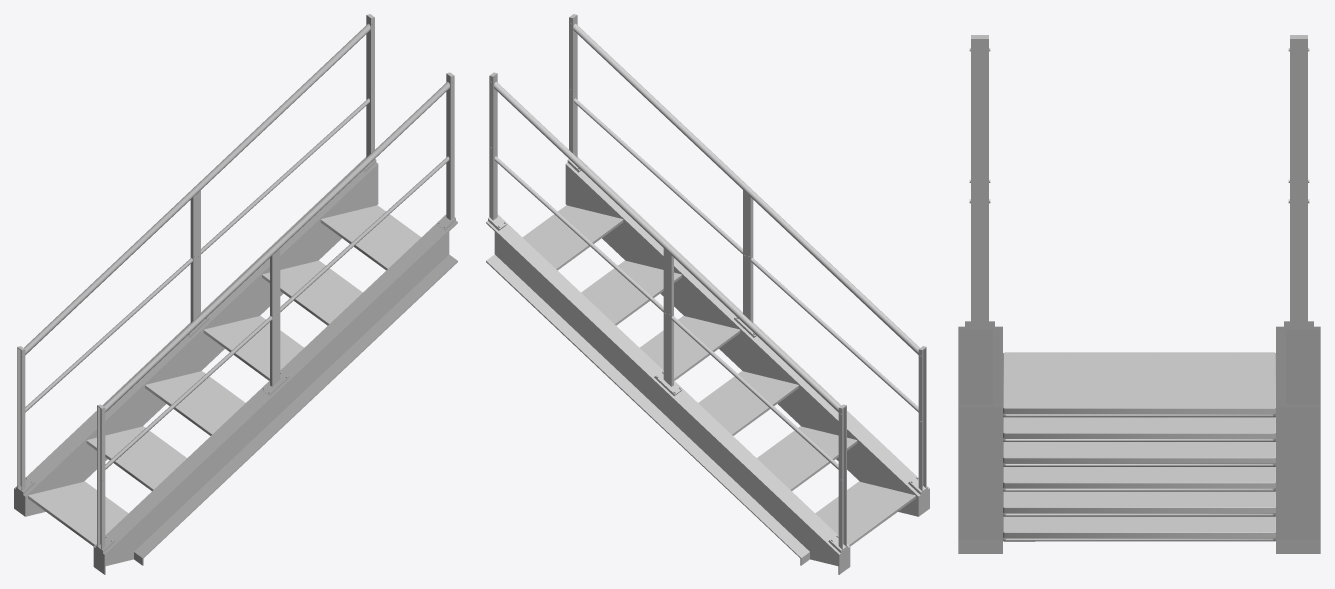
File: Stairs.FBX
3 renders of one model, left to right at view 1: azimuth 30°, elevation 25°; view 2: azimuth 150°, elevation 25°; view 3: azimuth 270°, elevation 25°, orthographic. The views are drawn at different scales.
Parts seen in each view (by area): view 1: Stairs_Stairs, Stairs_Fence; view 2: Stairs_Stairs, Stairs_Fence; view 3: Stairs_Stairs, Stairs_Fence.
Part boxes in pixels (x1,y1,x2,y2): Stairs_Stairs: (14,14,457,574); Stairs_Fence: (28,205,421,544); Stairs_Stairs: (486,14,929,574); Stairs_Fence: (522,205,915,544); Stairs_Stairs: (958,35,1320,553); Stairs_Fence: (1003,352,1275,532).
Size of the model in its own units: 2.25 by 2.5 by 0.998.
